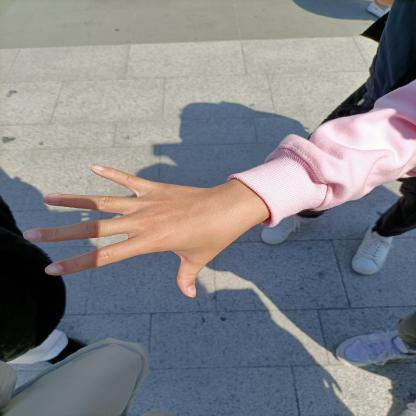bare_hand: (11, 145, 268, 304)
